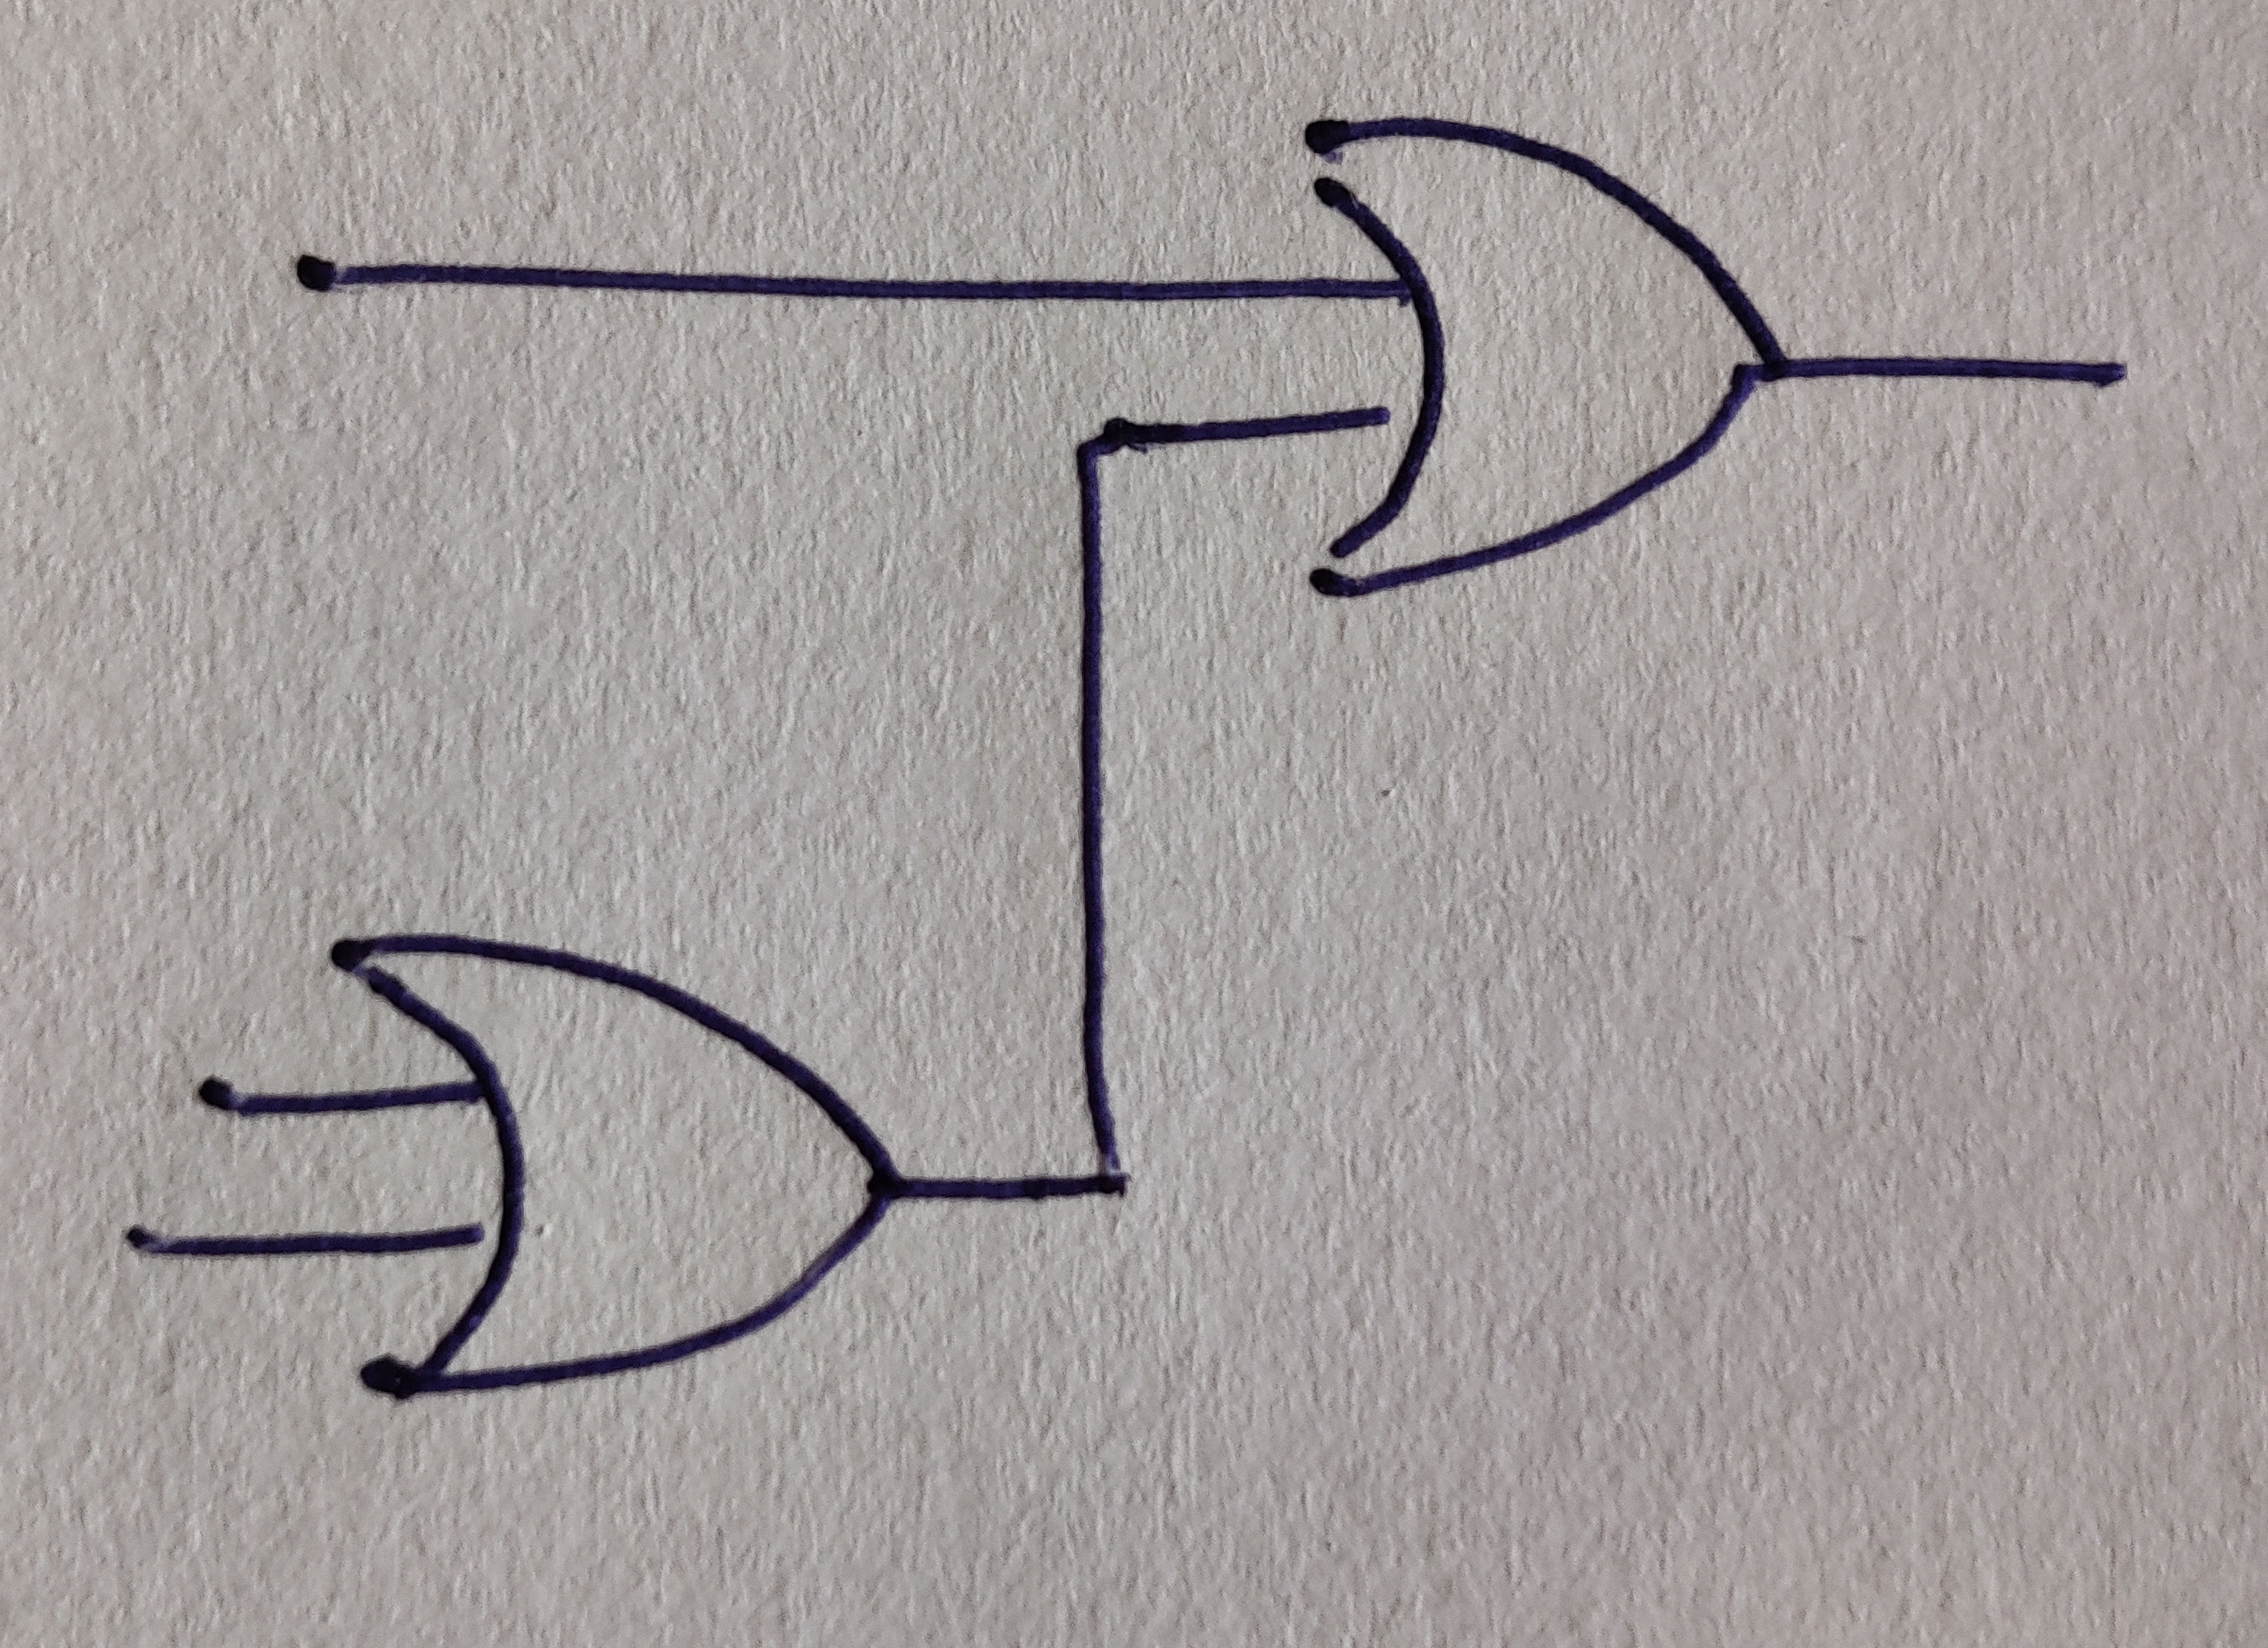or: (331, 935, 903, 1398), (1305, 118, 1789, 599)
